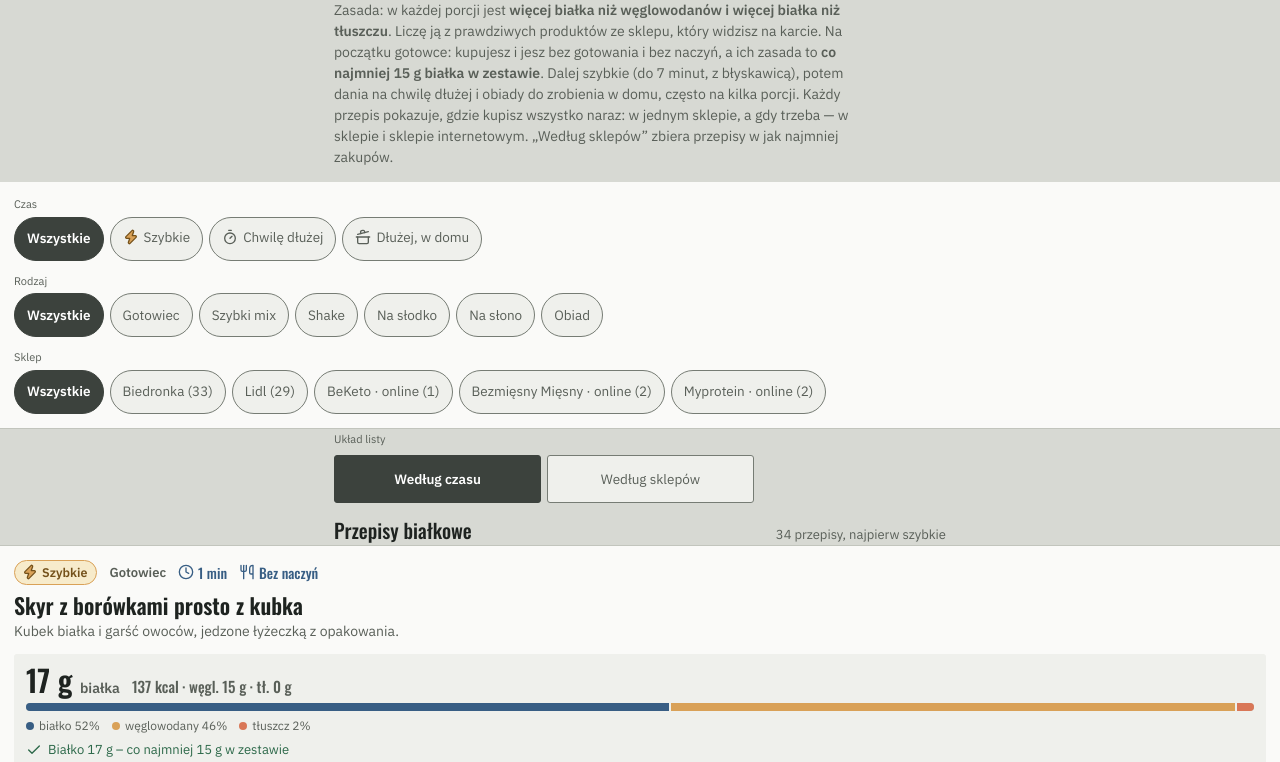
Przepisy z produktami sklepów internetowych › „Według sklepów” zbiera przepisy w plany zakupów, a układ stoi w adresie
Expected: the heading "Przepisy białkowe" is shown, x1=334 y1=515 x2=472 y2=545
Click the button "Według sklepów" at [650, 479], box x1=547 y1=455 x2=754 y2=503
(page scrolled)
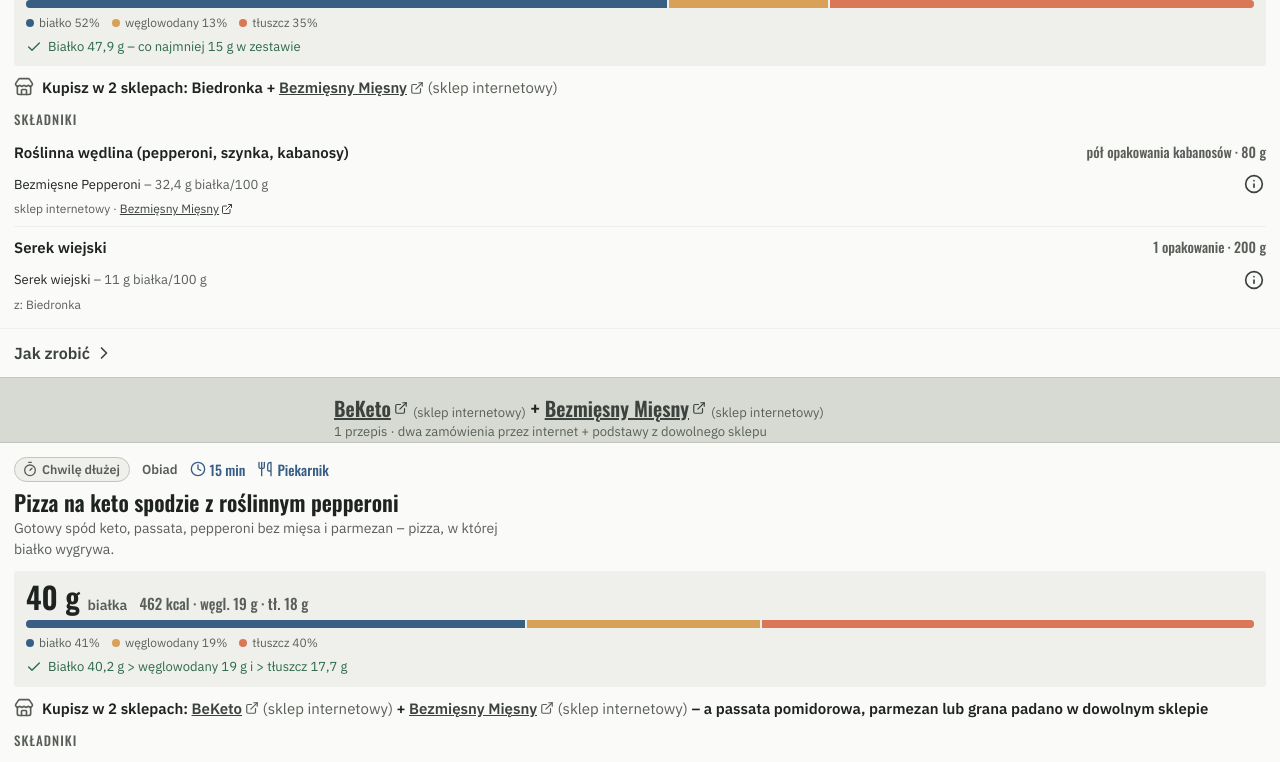
Expected: the heading "Pizza na keto spodzie z roślinnym pepperoni" is shown, x1=14 y1=486 x2=399 y2=518
Expected: the text "dwa zamówienia przez internet + podstawy z dowolnego sklepu" is shown, x1=387 y1=424 x2=767 y2=440
